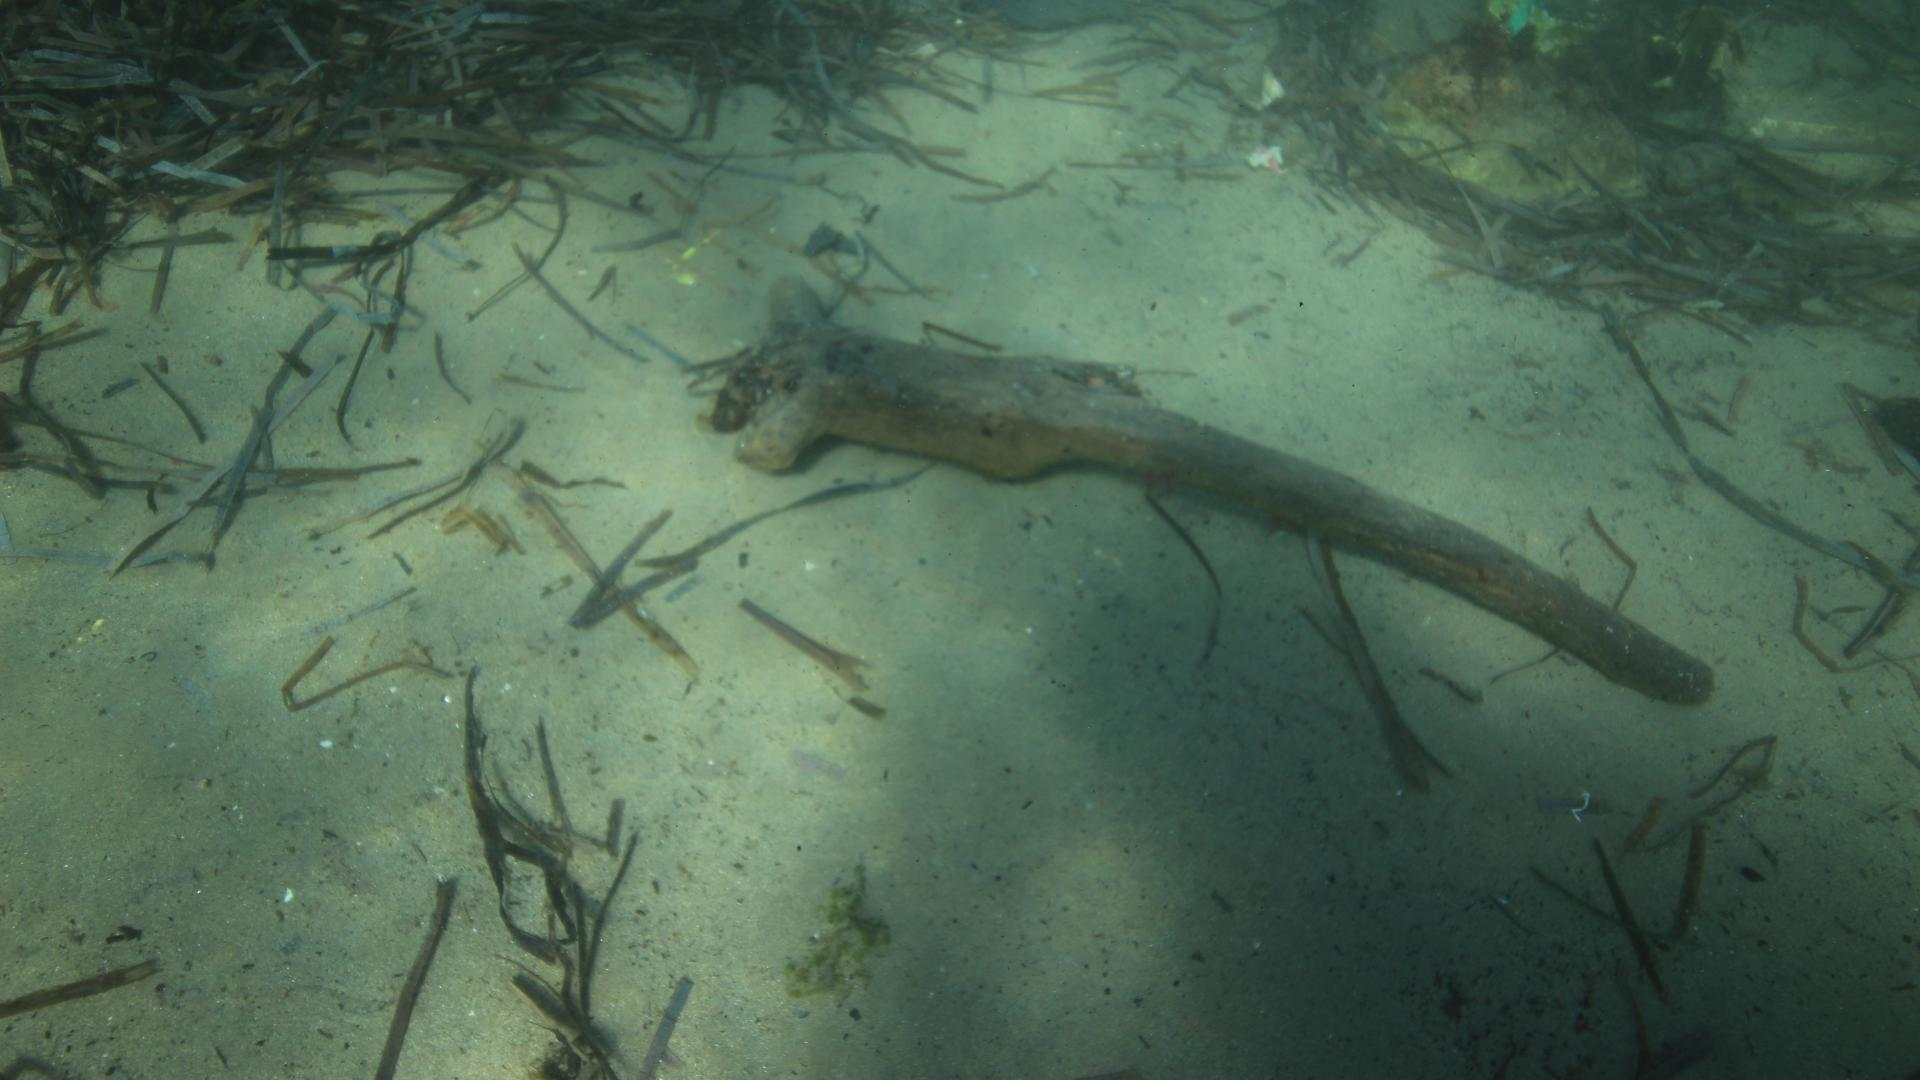wood: (735, 276, 1714, 708)
